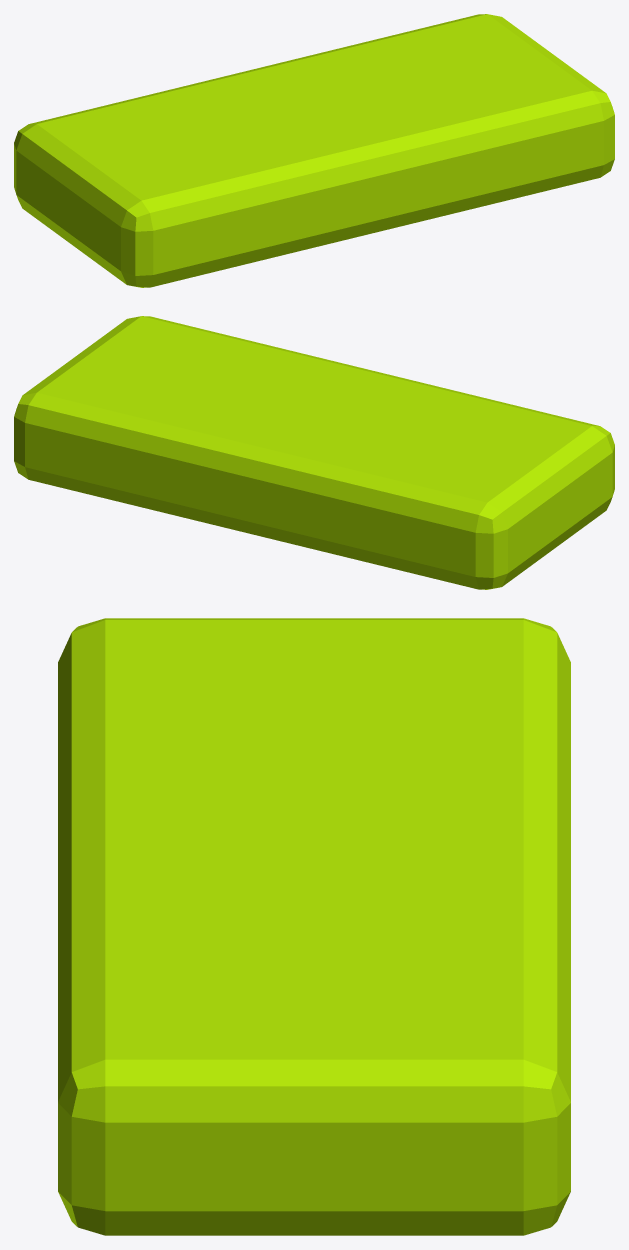
The model's file is MovingPart.fbx.
The picture shows the model from 3 angles, top to bottom: view 1: azimuth 30°, elevation 25°; view 2: azimuth 150°, elevation 25°; view 3: azimuth 270°, elevation 25°; orthographic projection. The views are drawn at different scales.
Visible parts, largest first — view 1: Cube; view 2: Cube; view 3: Cube.
Part boxes in pixels (x1,y1,x2,y2): Cube: [14, 14, 614, 287]; Cube: [14, 316, 614, 589]; Cube: [58, 618, 570, 1235].
Bounding box in the file's own units: 95.79 × 16.24 × 43.31.
